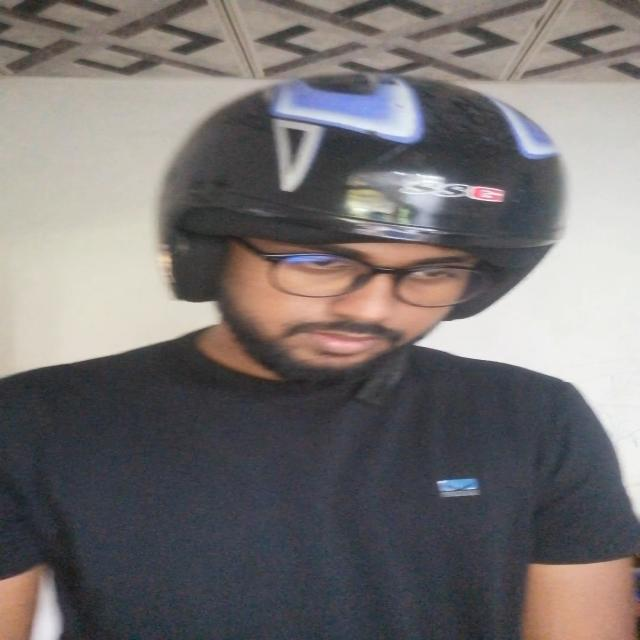Helmet_Wearer: (136, 60, 574, 415)
Person: (12, 62, 640, 640)
